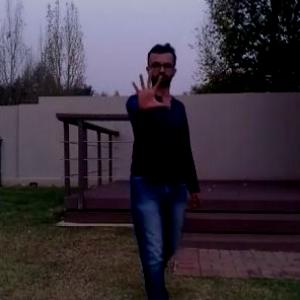follow_hand: (130, 65, 172, 112)
